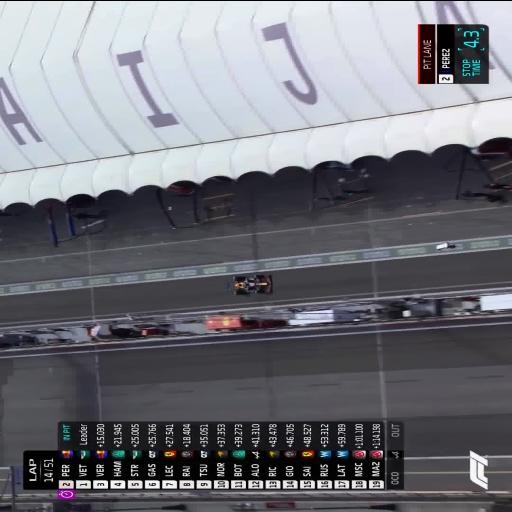f1_car: (230, 274, 272, 294)
